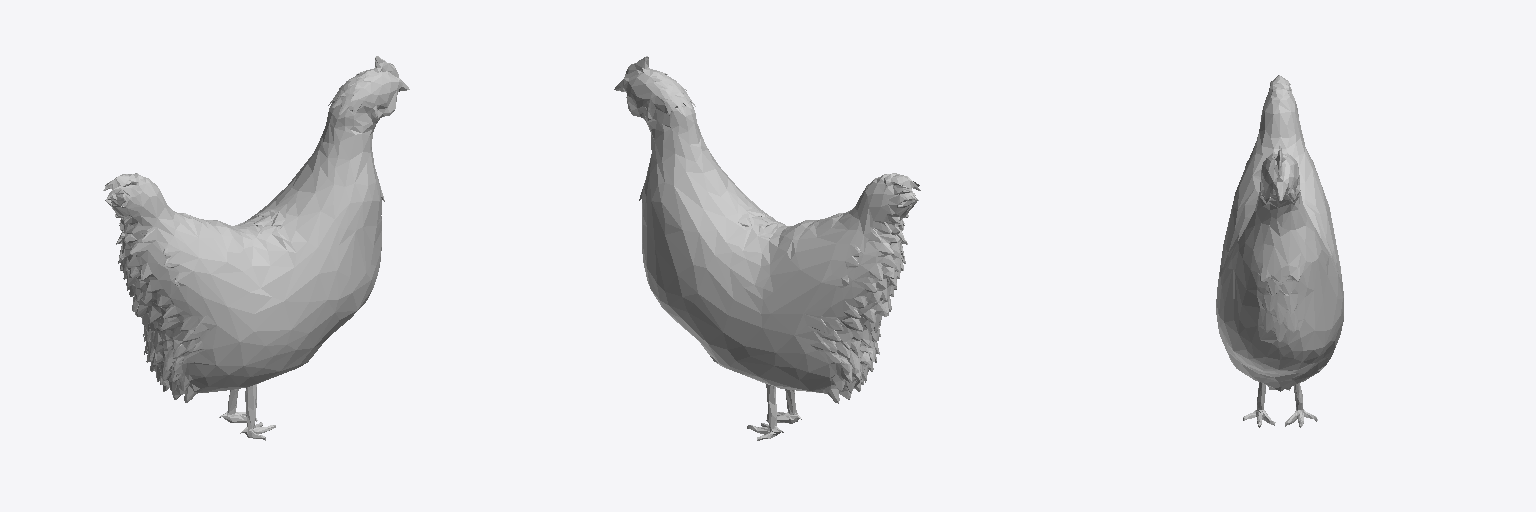
The model's file is chicken.obj.
3 renders of one model, left to right at view 1: azimuth 30°, elevation 25°; view 2: azimuth 150°, elevation 25°; view 3: azimuth 270°, elevation 25°, orthographic.
Parts seen in each view (by area): view 1: chicken; view 2: chicken; view 3: chicken.
Boxes of the visible parts, x1,y1,x2,y2 form: chicken: [103, 56, 409, 440]; chicken: [614, 56, 920, 440]; chicken: [1216, 75, 1343, 427].
Bounding box in the file's own units: 3.29 × 3.49 × 1.19.